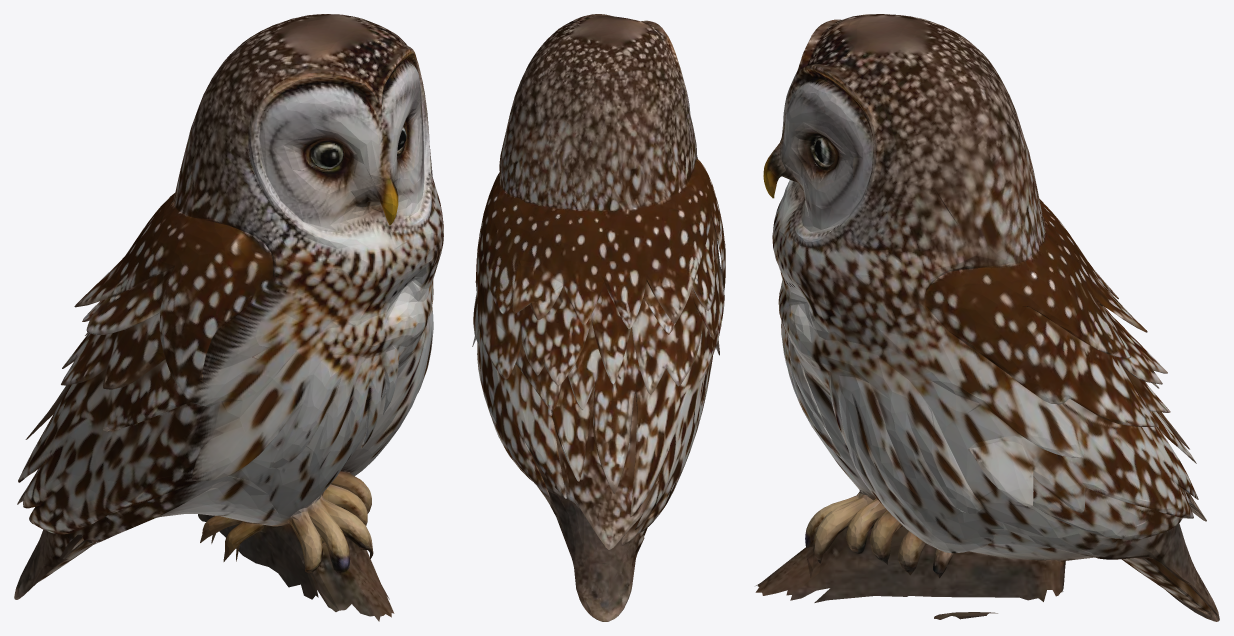
File: barred-owl.glb
3 views of the same model, side by side, from view 1: azimuth 30°, elevation 25°; view 2: azimuth 150°, elevation 25°; view 3: azimuth 270°, elevation 25° (orthographic). The views are drawn at different scales.
Parts seen in each view (by area): view 1: material; view 2: material; view 3: material.
Boxes of the visible parts, x1,y1,x2,y2 form: material: [14, 14, 443, 621]; material: [472, 14, 725, 621]; material: [755, 14, 1219, 621].
Bounding box in the file's own units: 0.4493 × 0.9138 × 0.5786.
1 material, 1 textured.
